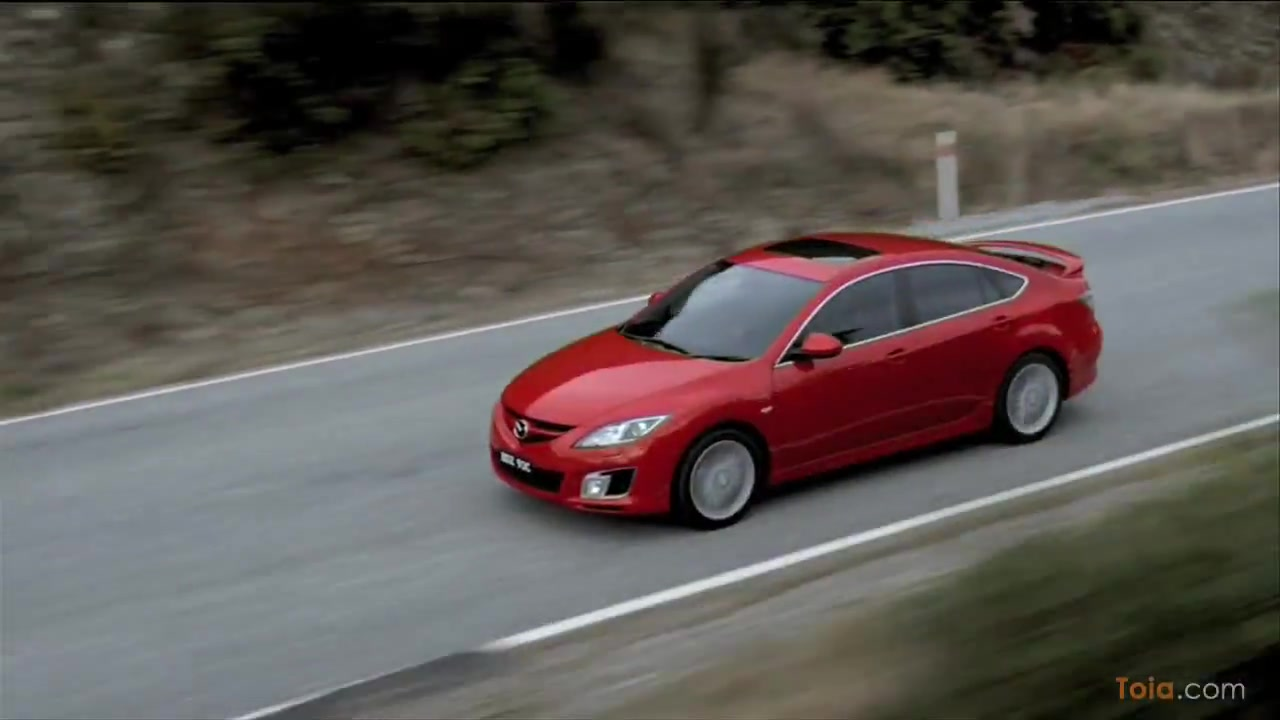car: (486, 229, 1107, 534)
